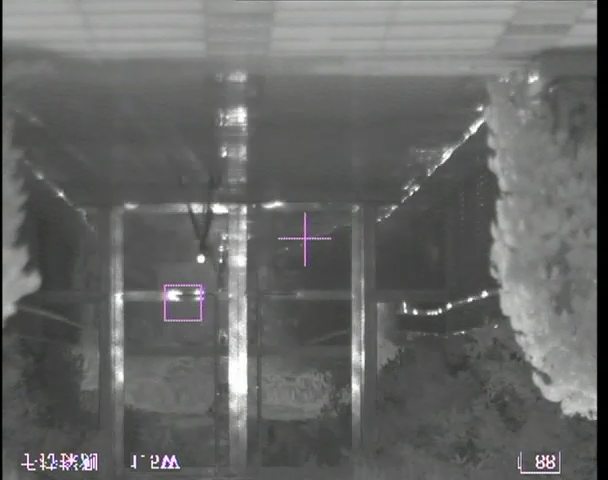my: (195, 253, 207, 266)
